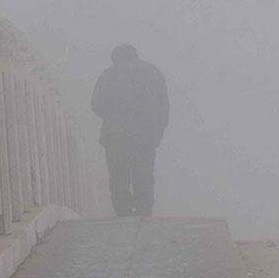person: (92, 43, 171, 218)
